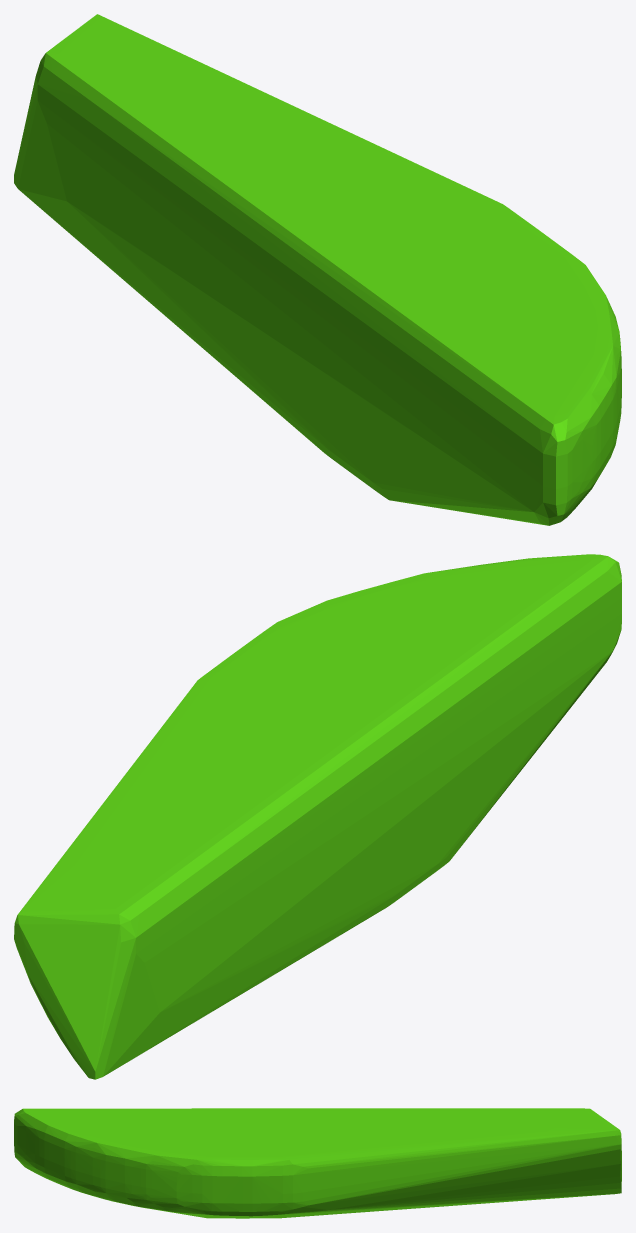
File: right-hip-yaw-0_part_17.obj
The picture shows the model from 3 angles, top to bottom: view 1: azimuth 30°, elevation 25°; view 2: azimuth 150°, elevation 25°; view 3: azimuth 270°, elevation 25°; orthographic projection. The views are drawn at different scales.
Bounding box in the file's own units: 0.0247 × 0.0219 × 0.1097.
